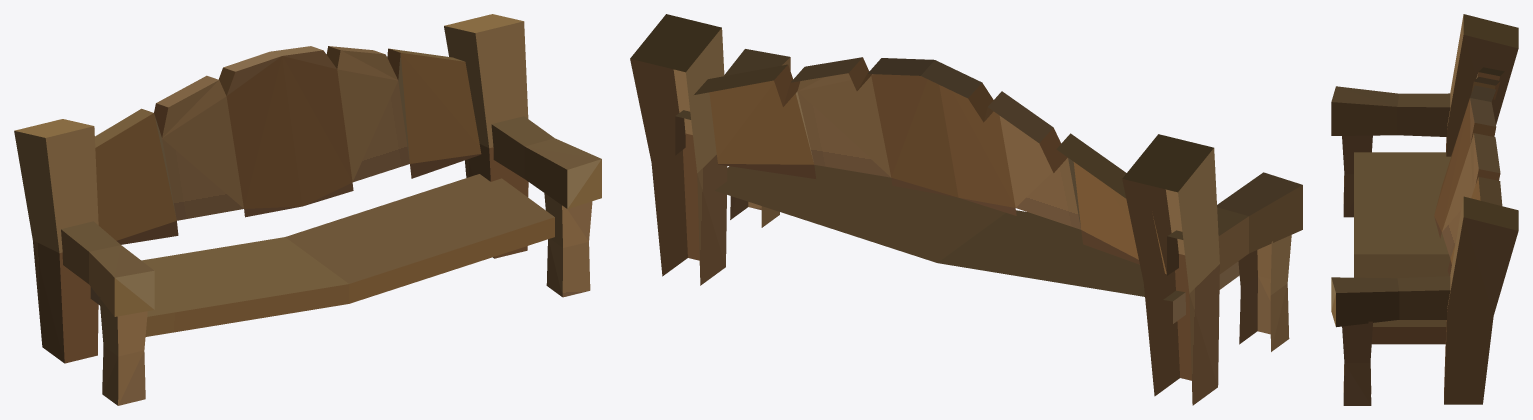
File: city-decor03.fbx
The picture shows the model from 3 angles, left to right: view 1: azimuth 30°, elevation 25°; view 2: azimuth 150°, elevation 25°; view 3: azimuth 270°, elevation 25°; orthographic projection. The views are drawn at different scales.
Parts seen in each view (by area): view 1: city-decor03; view 2: city-decor03; view 3: city-decor03.
Boxes of the visible parts, x1,y1,x2,y2 form: city-decor03: [14, 14, 601, 405]; city-decor03: [630, 14, 1302, 405]; city-decor03: [1331, 14, 1518, 405].
Size of the model in its own units: 0.7387 by 0.3478 by 0.2826.
Materials: 1 (1 with a texture image).
